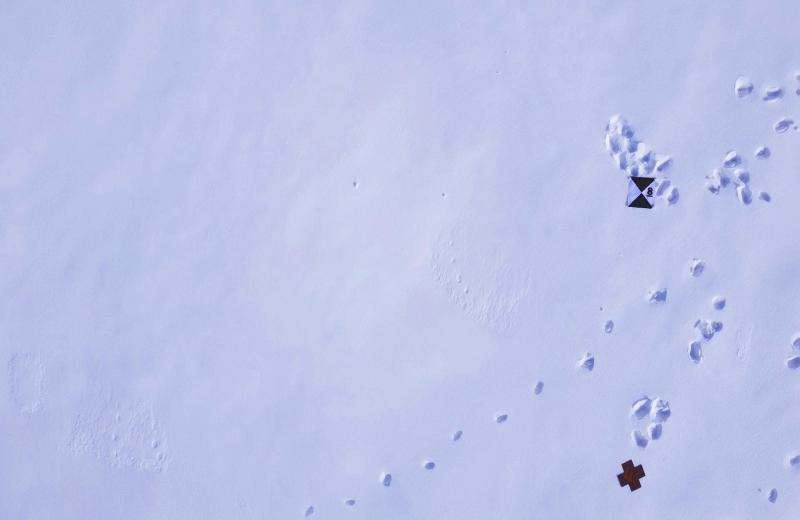Cross: (614, 456, 646, 497)
